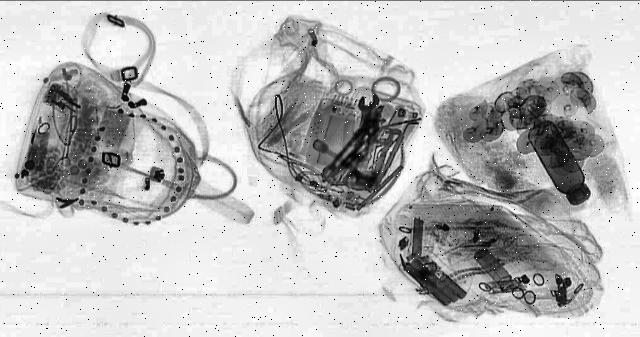Wrench: (319, 135, 365, 179), (359, 93, 381, 143)
